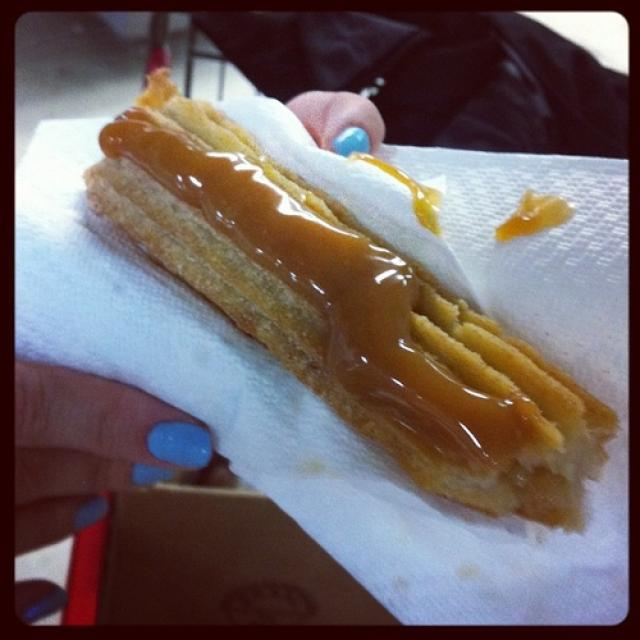炸货点心: (80, 48, 620, 578)
